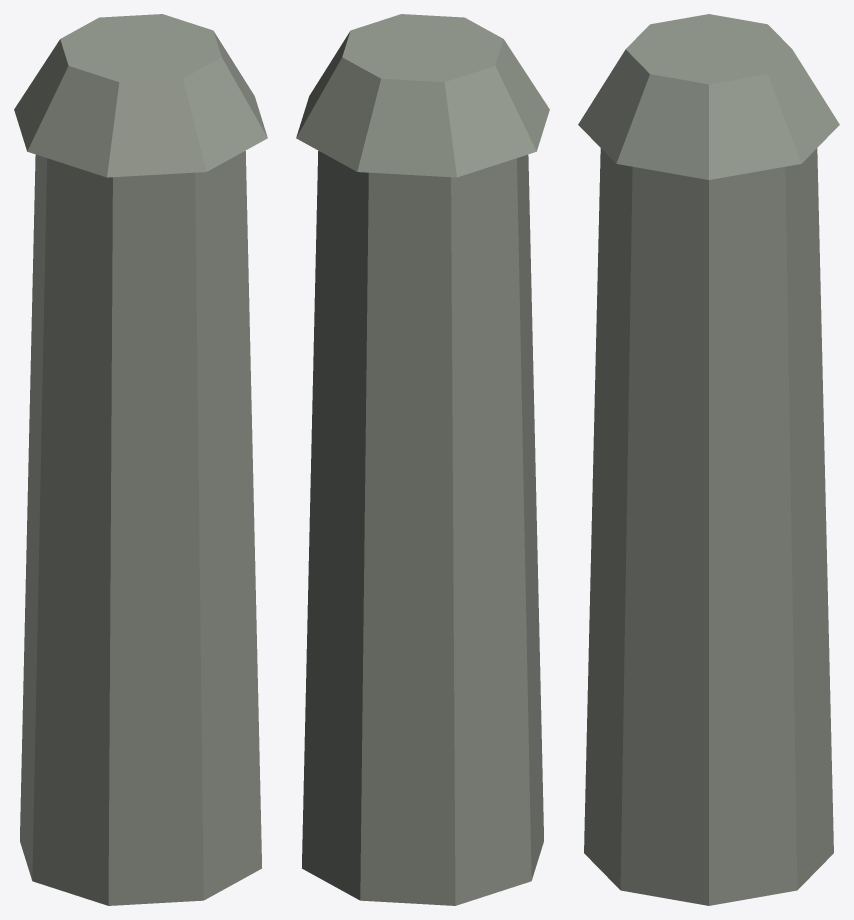
Rendered from SM_QD_StreetPark_StoneBollard.fbx.
The picture shows the model from 3 angles, left to right: view 1: azimuth 30°, elevation 25°; view 2: azimuth 150°, elevation 25°; view 3: azimuth 270°, elevation 25°; orthographic projection.
Parts seen in each view (by area): view 1: SM_QD_StreetPark_StoneBollard; view 2: SM_QD_StreetPark_StoneBollard; view 3: SM_QD_StreetPark_StoneBollard.
Boxes of the visible parts, box(x1,y1,x2,y2) form: SM_QD_StreetPark_StoneBollard: box(14, 14, 267, 905); SM_QD_StreetPark_StoneBollard: box(296, 14, 549, 905); SM_QD_StreetPark_StoneBollard: box(578, 14, 839, 905).
Size of the model in its own units: 0.22 by 0.22 by 0.745.
